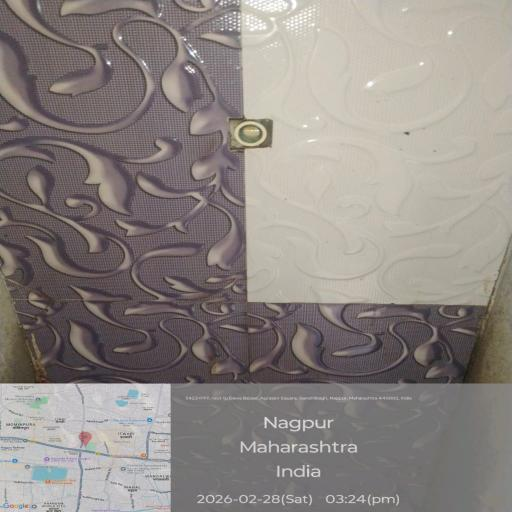clean_floor: (70, 10, 502, 478)
